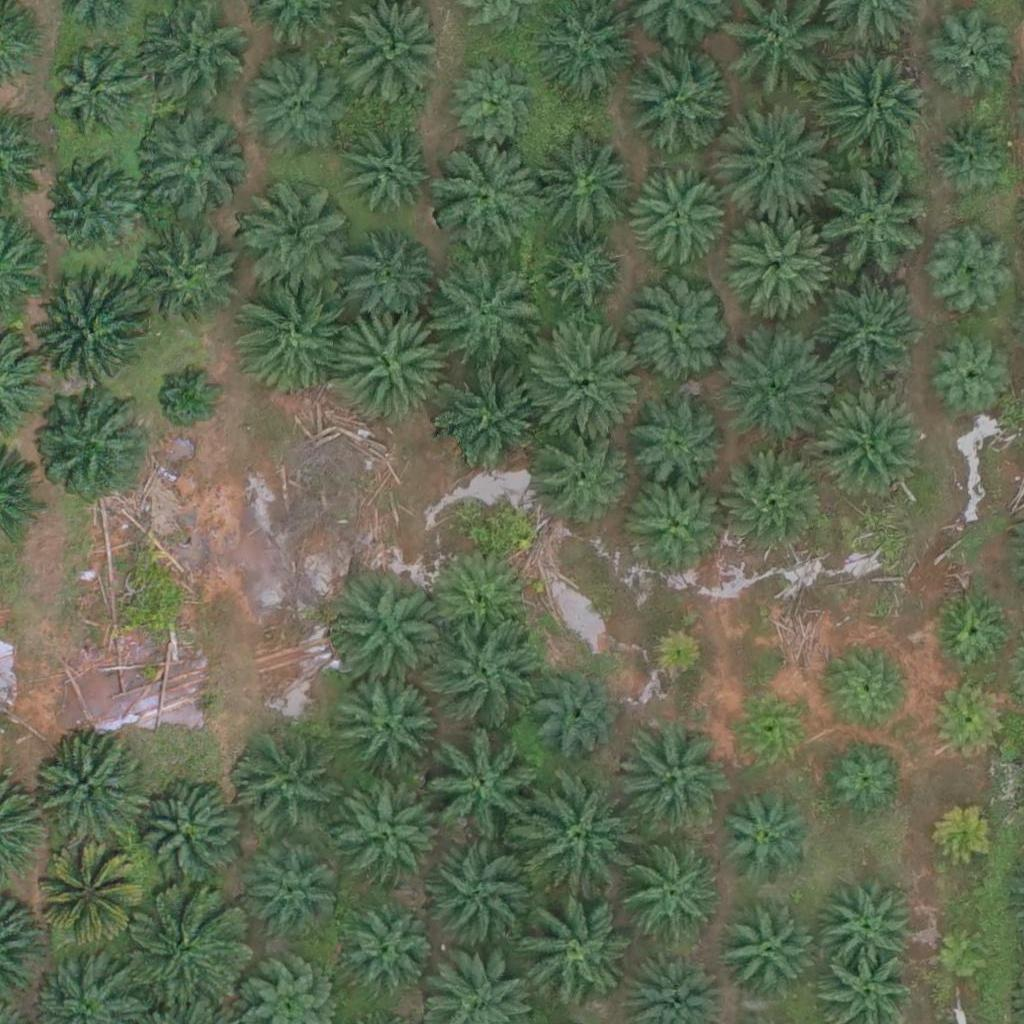Kelapa_Sawit: (722, 113, 835, 227), (423, 838, 536, 951), (129, 891, 242, 1004), (816, 54, 929, 167), (809, 170, 922, 283), (424, 244, 537, 357), (437, 361, 550, 474), (331, 308, 444, 421), (236, 49, 349, 162), (236, 168, 349, 281), (228, 282, 341, 395), (520, 785, 633, 898), (426, 734, 539, 847), (331, 577, 444, 690), (128, 779, 241, 892), (133, 109, 246, 222), (32, 278, 145, 391), (808, 285, 920, 399), (812, 389, 924, 503), (714, 446, 826, 560), (427, 142, 539, 256), (516, 894, 628, 1007), (722, 335, 834, 448), (722, 208, 834, 321), (614, 44, 726, 157), (529, 132, 641, 245), (529, 320, 641, 433), (617, 721, 729, 834), (432, 617, 544, 730), (334, 767, 446, 880), (228, 730, 340, 843), (31, 736, 143, 849), (34, 394, 146, 507), (817, 874, 917, 975), (711, 787, 811, 888), (718, 903, 818, 1004), (624, 843, 724, 944), (628, 170, 728, 271), (628, 282, 728, 383), (630, 391, 730, 492), (525, 430, 625, 531), (338, 227, 438, 328), (342, 114, 442, 215), (431, 547, 531, 648), (339, 681, 439, 782), (142, 228, 242, 329), (39, 160, 139, 261), (36, 851, 136, 951), (630, 477, 730, 577), (825, 642, 913, 730), (825, 734, 913, 822), (923, 674, 1011, 762), (931, 585, 1019, 673), (926, 330, 1014, 418), (930, 222, 1018, 310), (533, 228, 621, 316), (450, 58, 538, 146), (538, 667, 626, 755), (50, 47, 138, 135), (346, 908, 433, 996), (248, 853, 335, 941), (726, 684, 813, 772), (928, 114, 1015, 202), (928, 9, 1015, 97), (928, 796, 1003, 872), (152, 357, 227, 432), (643, 625, 706, 688), (933, 925, 995, 988)
